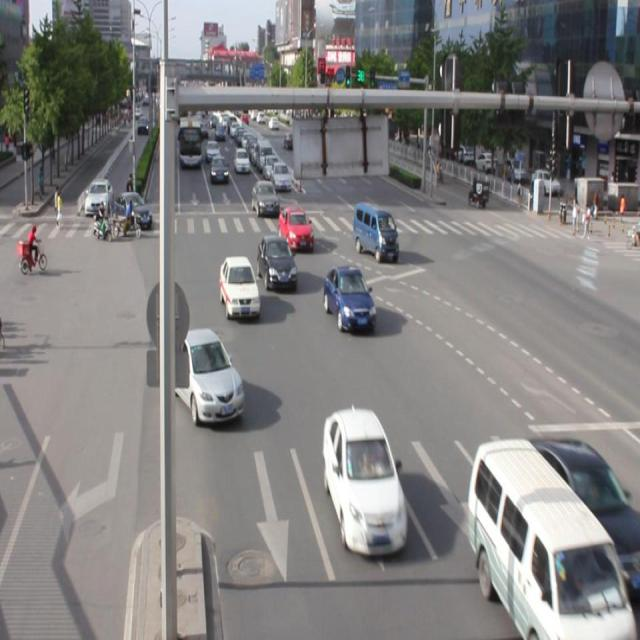car: (526, 434, 640, 576), (323, 406, 406, 556), (168, 326, 244, 422), (323, 265, 376, 332), (219, 254, 260, 321), (256, 234, 297, 292), (278, 206, 313, 252)
truck: (466, 439, 628, 640), (352, 202, 398, 259)
